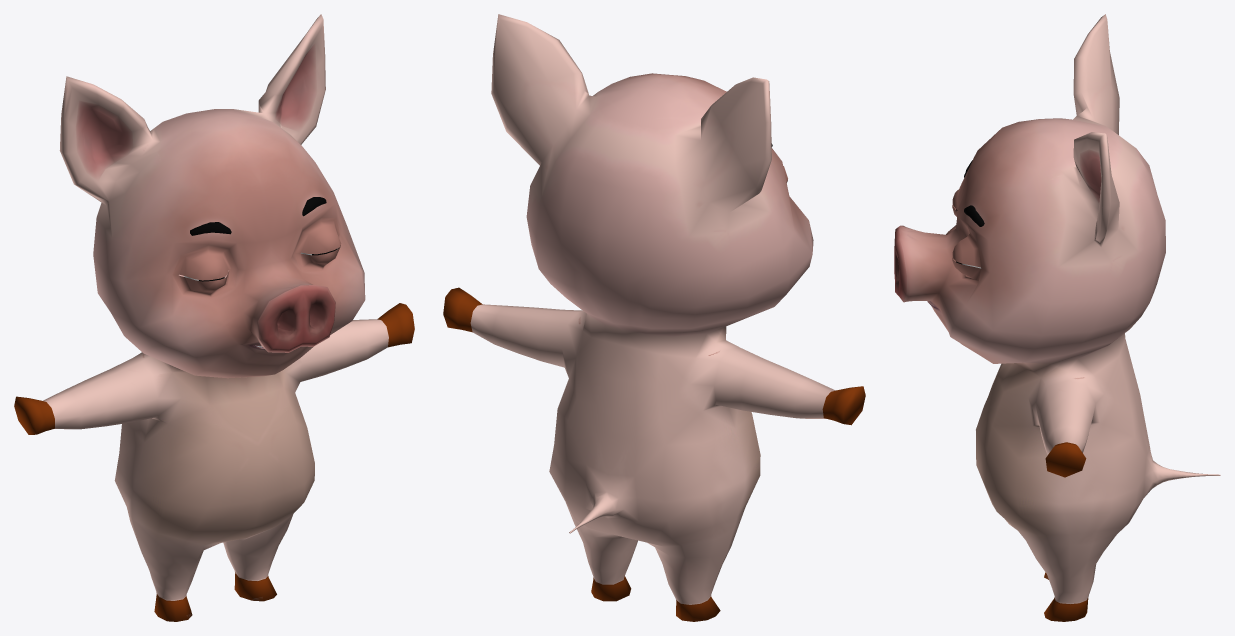
File: pig 1.fbx
The picture shows the model from 3 angles, left to right: view 1: azimuth 30°, elevation 25°; view 2: azimuth 150°, elevation 25°; view 3: azimuth 270°, elevation 25°; orthographic projection. The views are drawn at different scales.
Visible parts, largest first — view 1: Cube; view 2: Cube; view 3: Cube.
Boxes of the visible parts, x1,y1,x2,y2 form: Cube: [14, 14, 414, 621]; Cube: [443, 14, 865, 621]; Cube: [894, 14, 1220, 621].
Size of the model in its own units: 204 by 275 by 156.
1 material, 1 textured.
